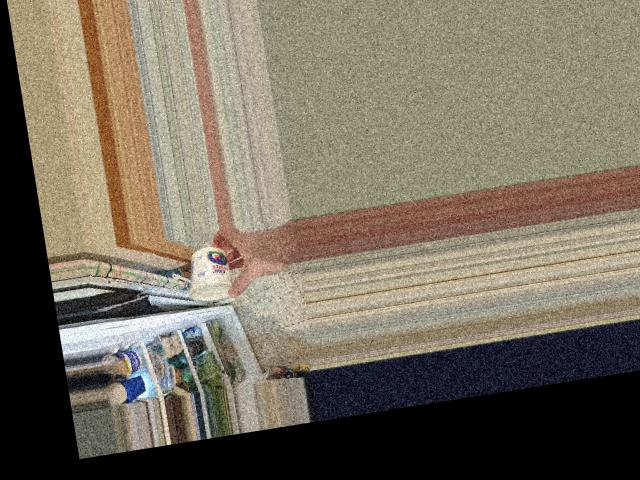cotage: (179, 242, 243, 308)
